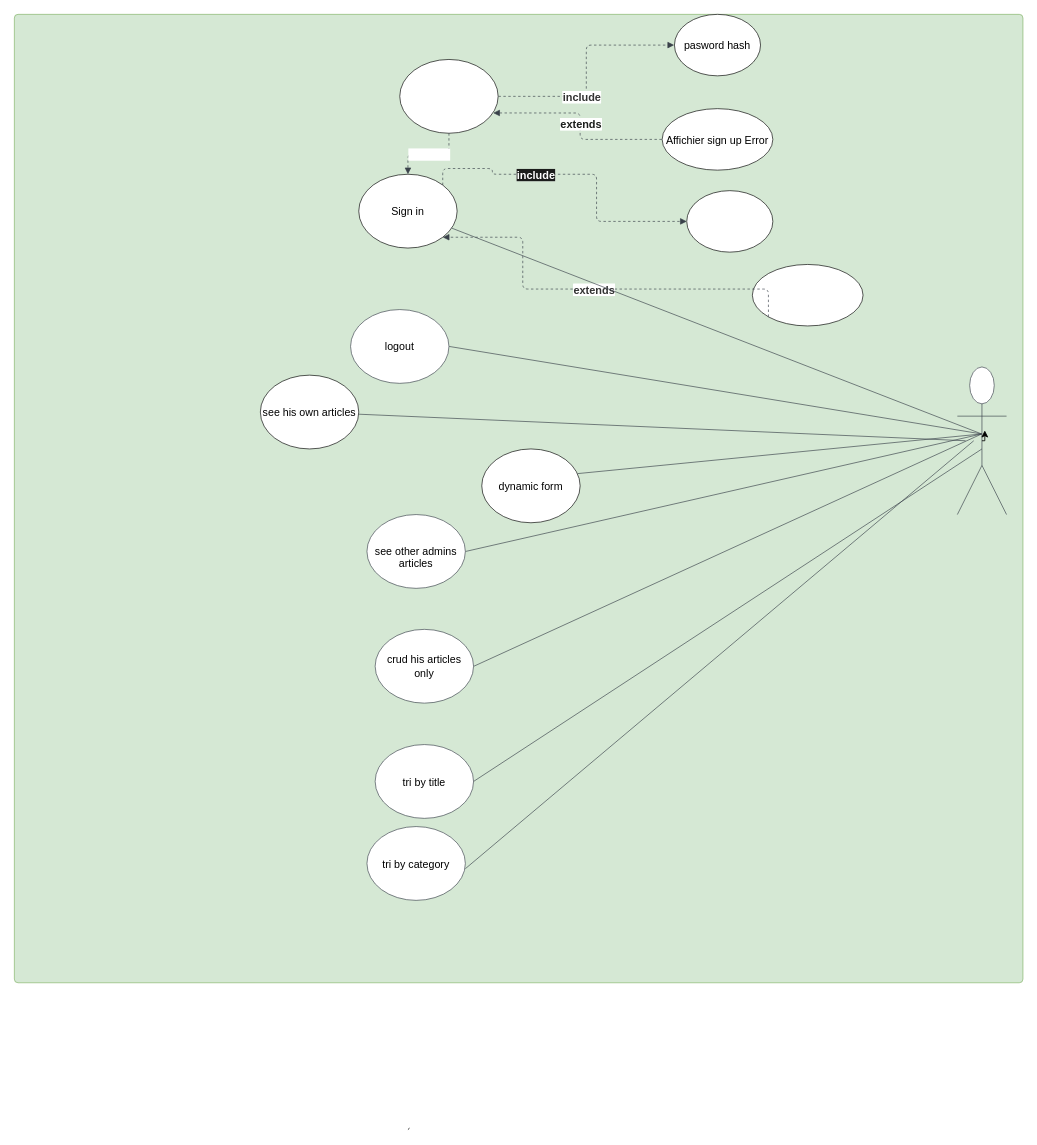
Image size: 1037x1145. Some labels were removed from this diagram. Here are the shapes that lost their labels. From the top down, the centre of each, then its label:
the point at 448,96: Sign up
the point at 729,221: Verifier le Login
the point at 807,295: Affichier sign in Error
the point at 981,440: admin
